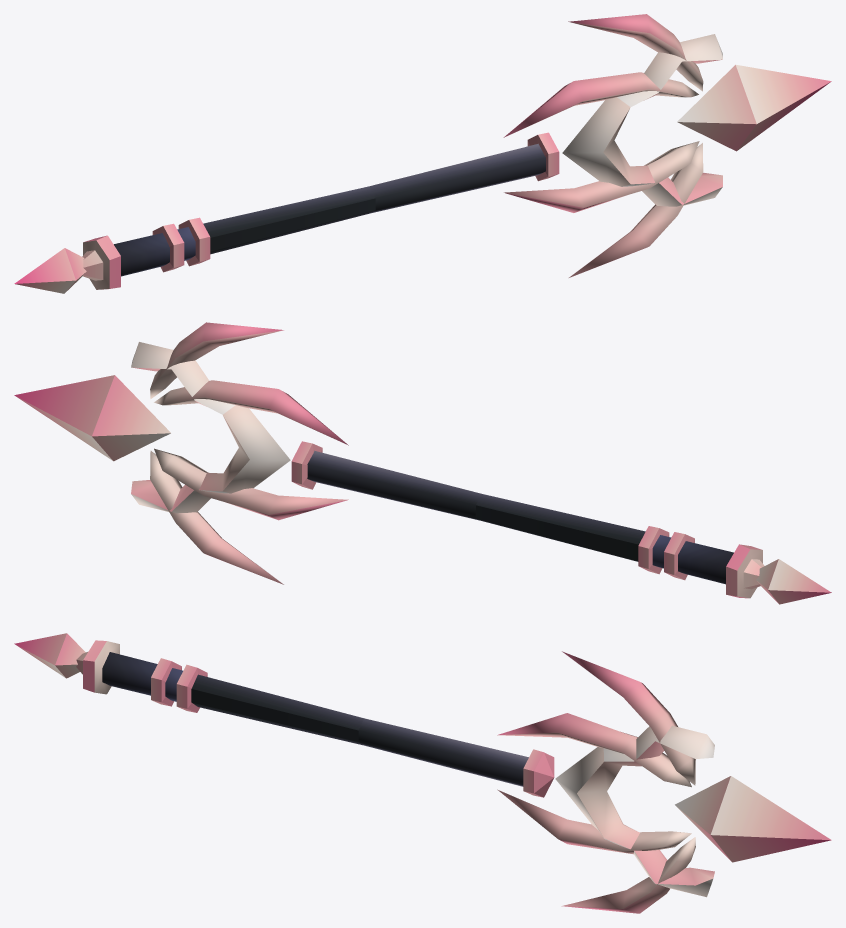
Rendered from weapon_28.FBX.
3 renders of one model, top to bottom at view 1: azimuth 30°, elevation 25°; view 2: azimuth 150°, elevation 25°; view 3: azimuth 330°, elevation 25°, orthographic.
Parts seen in each view (by area): view 1: weapon_28; view 2: weapon_28; view 3: weapon_28.
Boxes of the visible parts, x1,y1,x2,y2 form: weapon_28: (14,14,831,293); weapon_28: (14,322,831,604); weapon_28: (14,633,831,913).
Size of the model in its own units: 96.77 by 28.92 by 8.85.
1 material, 1 textured.
